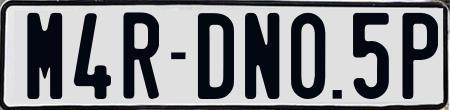0: (290, 11, 327, 98)
4: (73, 12, 112, 101)
5: (353, 11, 390, 99)
D: (197, 10, 238, 96)
M: (25, 10, 60, 101)
N: (243, 11, 283, 97)
P: (401, 13, 432, 100)
R: (123, 9, 164, 102)
